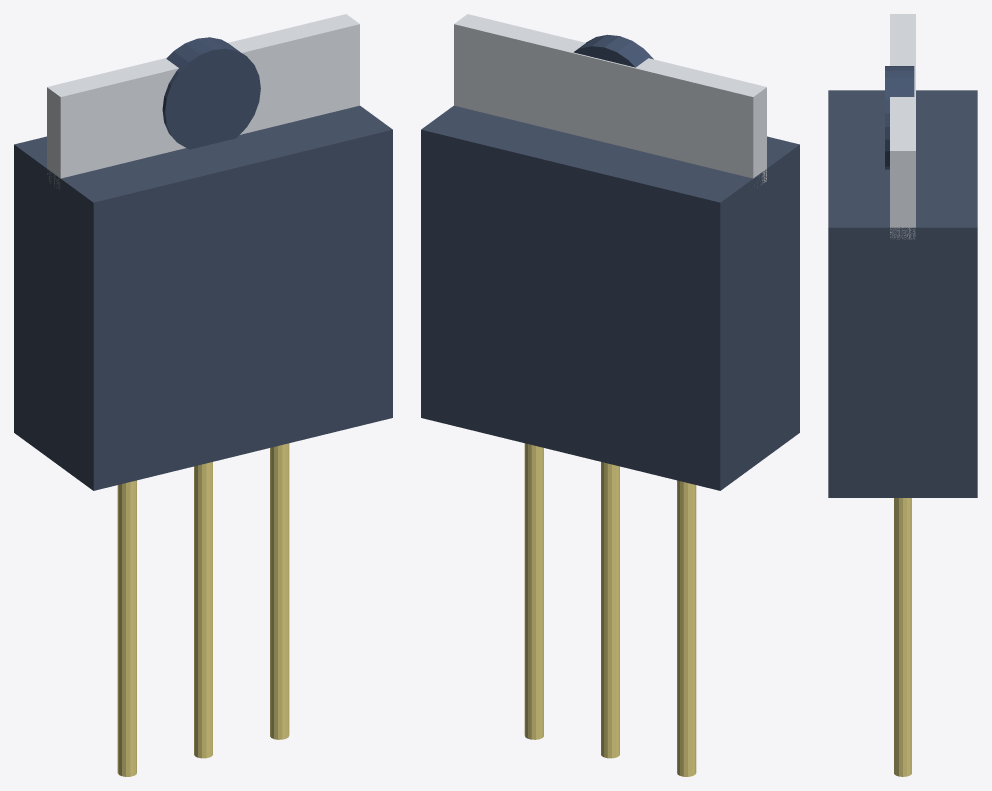
File: reg-7805.glb
The picture shows the model from 3 angles, left to right: view 1: azimuth 30°, elevation 25°; view 2: azimuth 150°, elevation 25°; view 3: azimuth 270°, elevation 25°; orthographic projection. The views are drawn at different scales.
Visible parts, largest first — view 1: regulator-lm7805_mesh; view 2: regulator-lm7805_mesh; view 3: regulator-lm7805_mesh.
Boxes of the visible parts, x1,y1,x2,y2 form: regulator-lm7805_mesh: (14, 14, 392, 776); regulator-lm7805_mesh: (421, 14, 799, 776); regulator-lm7805_mesh: (828, 14, 977, 776).
Bounding box in the file's own units: 10 × 22.7 × 4.6.
